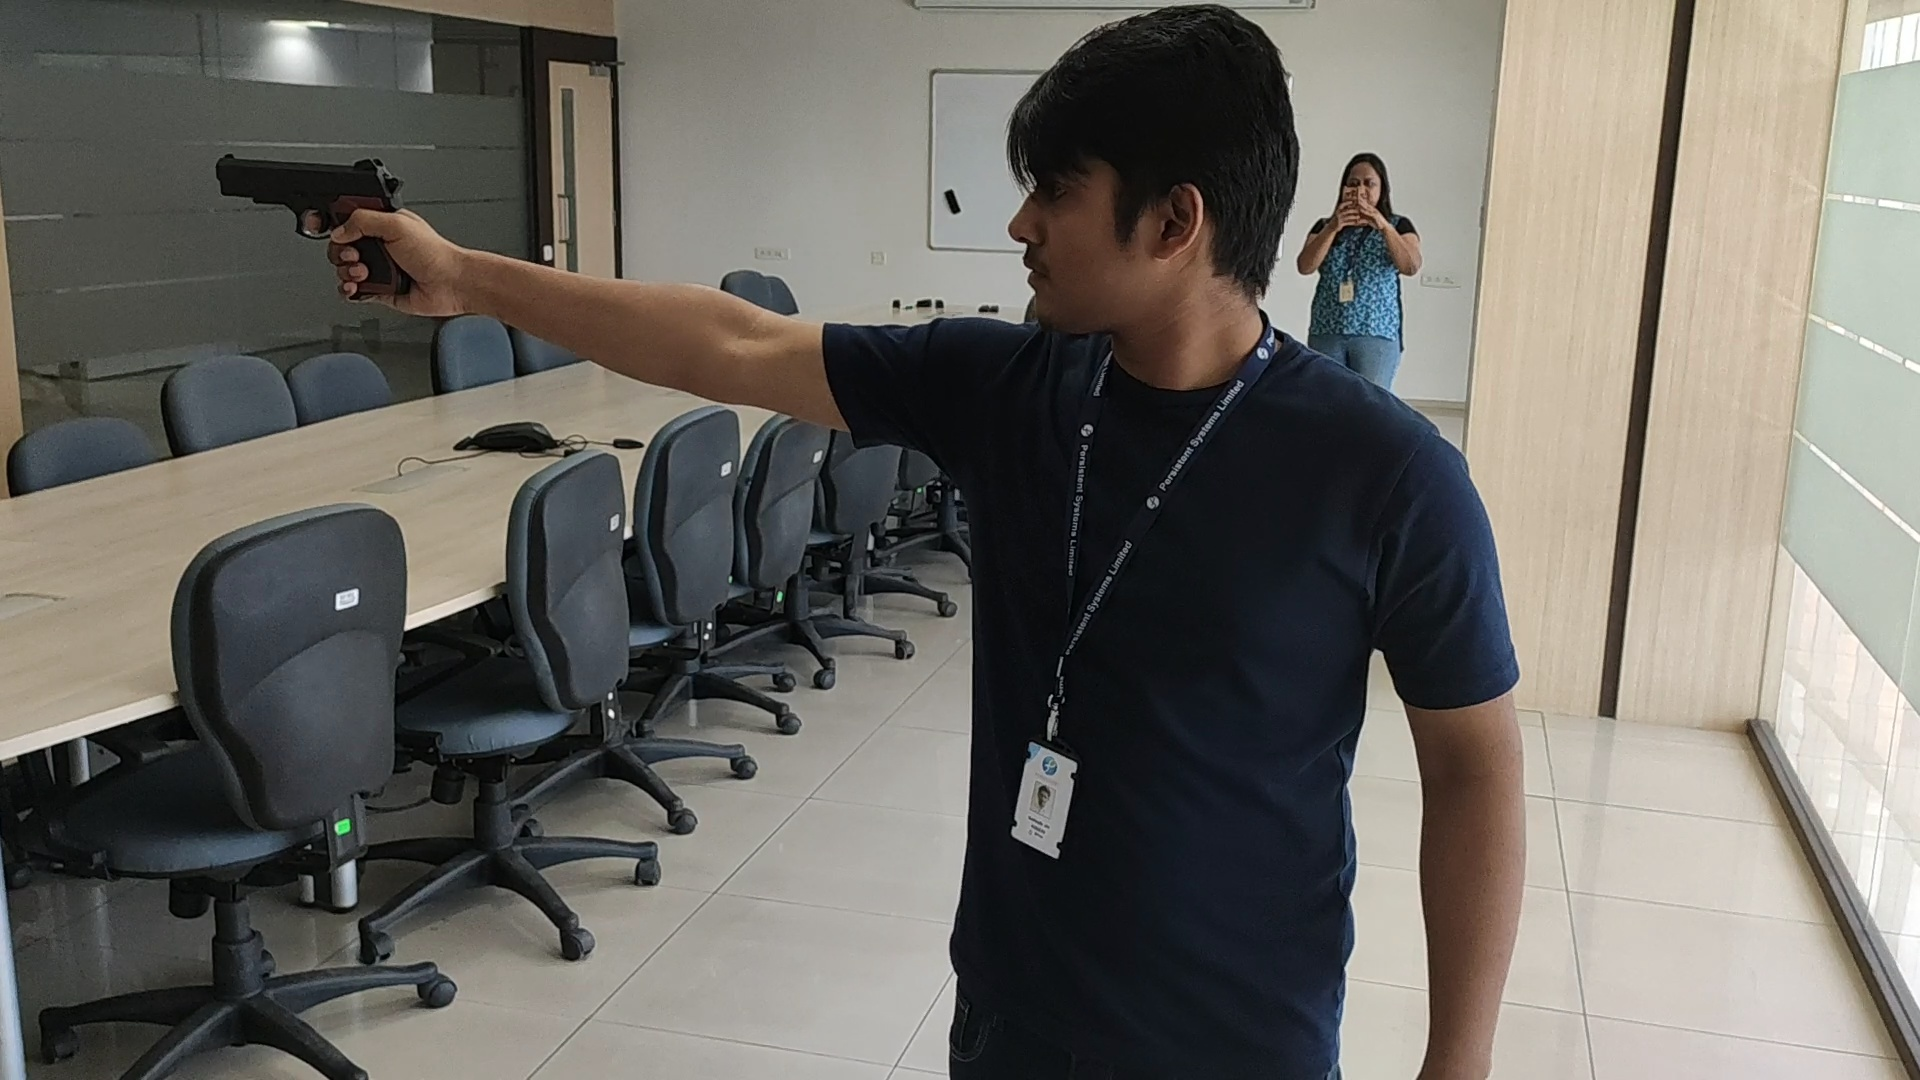gun: (214, 146, 404, 219)
